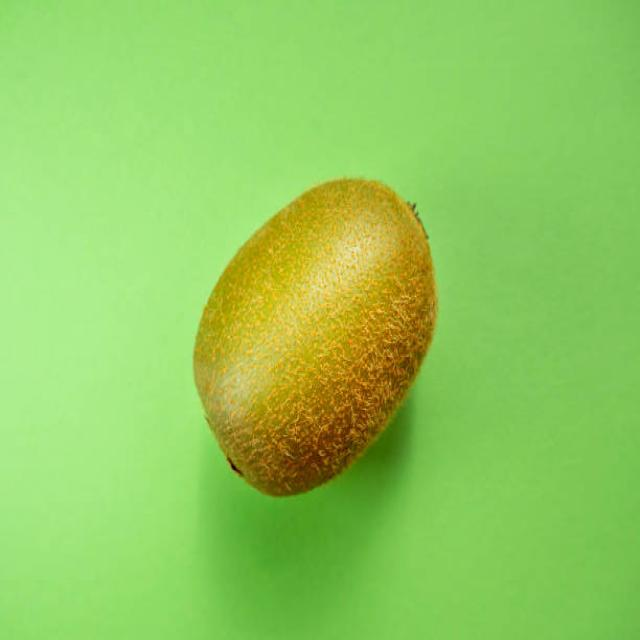kiwi: (193, 181, 438, 496)
